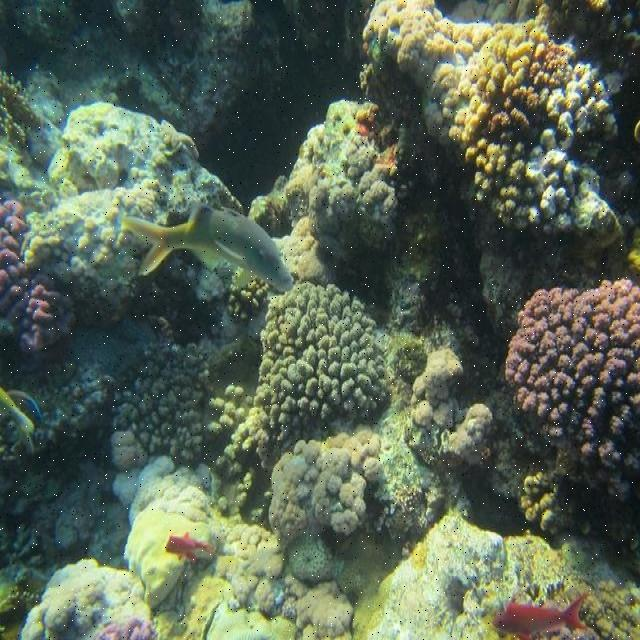fish: (121, 201, 296, 292), (492, 590, 590, 639), (0, 386, 35, 452), (166, 528, 216, 562)
reefs: (363, 1, 608, 236), (112, 432, 353, 637), (208, 282, 386, 507), (505, 277, 639, 460), (267, 425, 381, 541), (111, 344, 210, 461), (0, 201, 74, 354), (21, 559, 146, 638), (309, 146, 398, 253), (410, 349, 463, 427), (228, 277, 272, 323)
